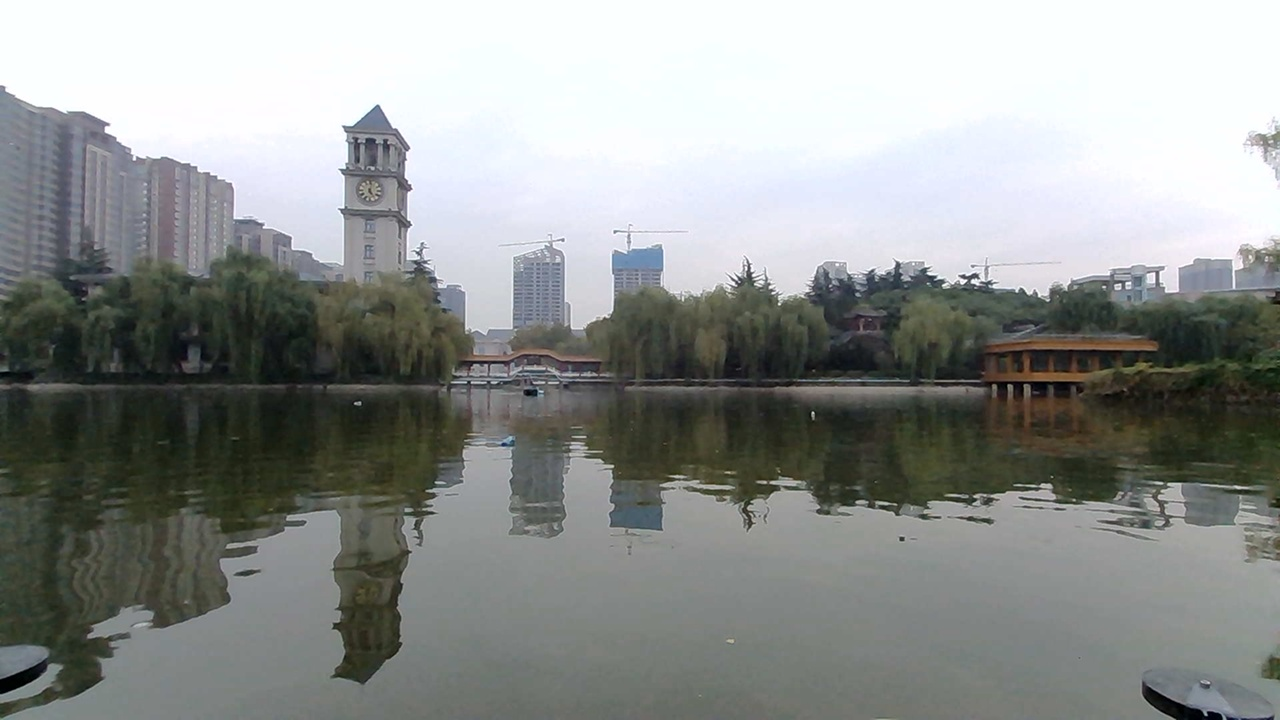bottle: (491, 423, 532, 452), (802, 405, 833, 426), (350, 393, 376, 412)
